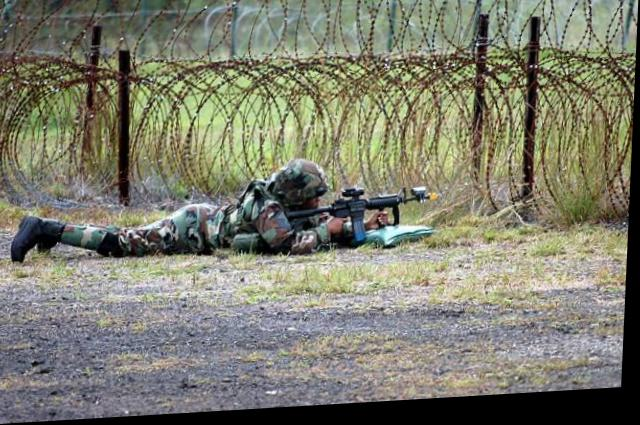other: (15, 165, 373, 271)
